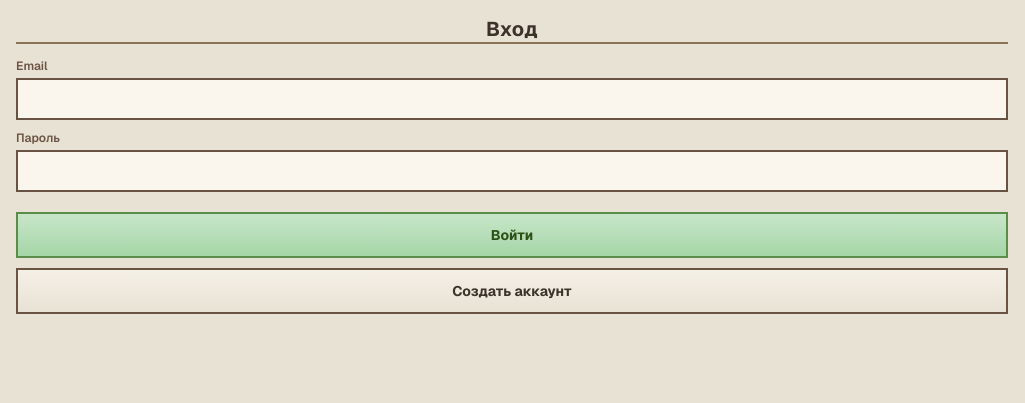
Test: LoginView › возвращается в режим входа после переключения
Click the button "Создать аккаунт" at (512, 291), box [16,268,1008,314]
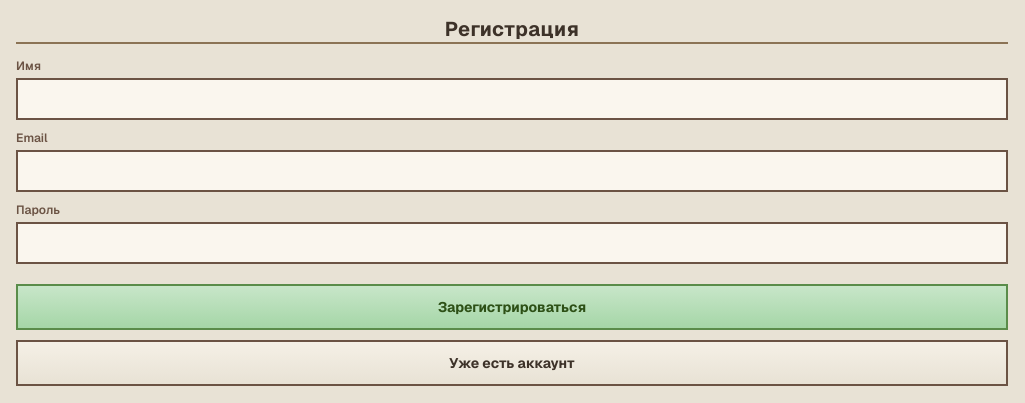
Click the button "Уже есть аккаунт" at (512, 363), box [16,340,1008,386]
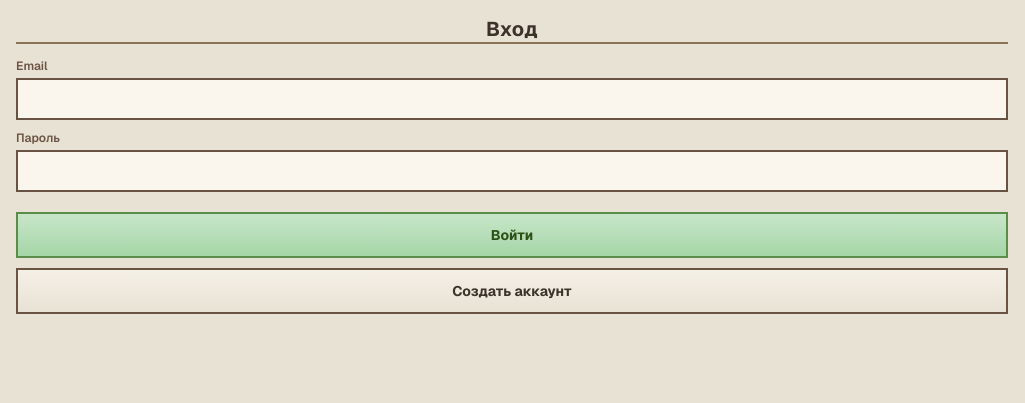
Check: the text "Вход" is shown, box [16,16,1008,44]
